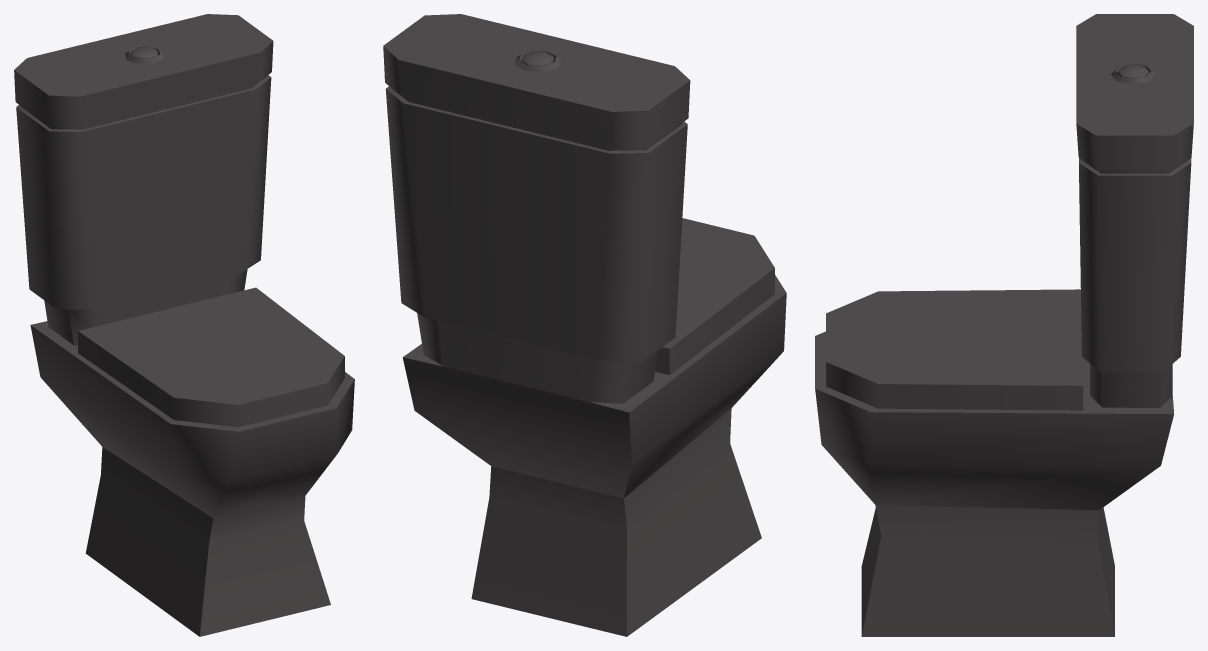
The model's file is SM_Toilet_1_03.fbx.
3 renders of one model, left to right at view 1: azimuth 30°, elevation 25°; view 2: azimuth 150°, elevation 25°; view 3: azimuth 270°, elevation 25°, orthographic. The views are drawn at different scales.
Parts seen in each view (by area): view 1: SM_Toilet_1_03; view 2: SM_Toilet_1_03; view 3: SM_Toilet_1_03.
Part boxes in pixels (x1=…): SM_Toilet_1_03: x1=14, y1=14, x2=354, y2=636; SM_Toilet_1_03: x1=383, y1=14, x2=786, y2=636; SM_Toilet_1_03: x1=815, y1=14, x2=1193, y2=636.
Bounding box in the file's own units: 58.33 × 120 × 76.81.
